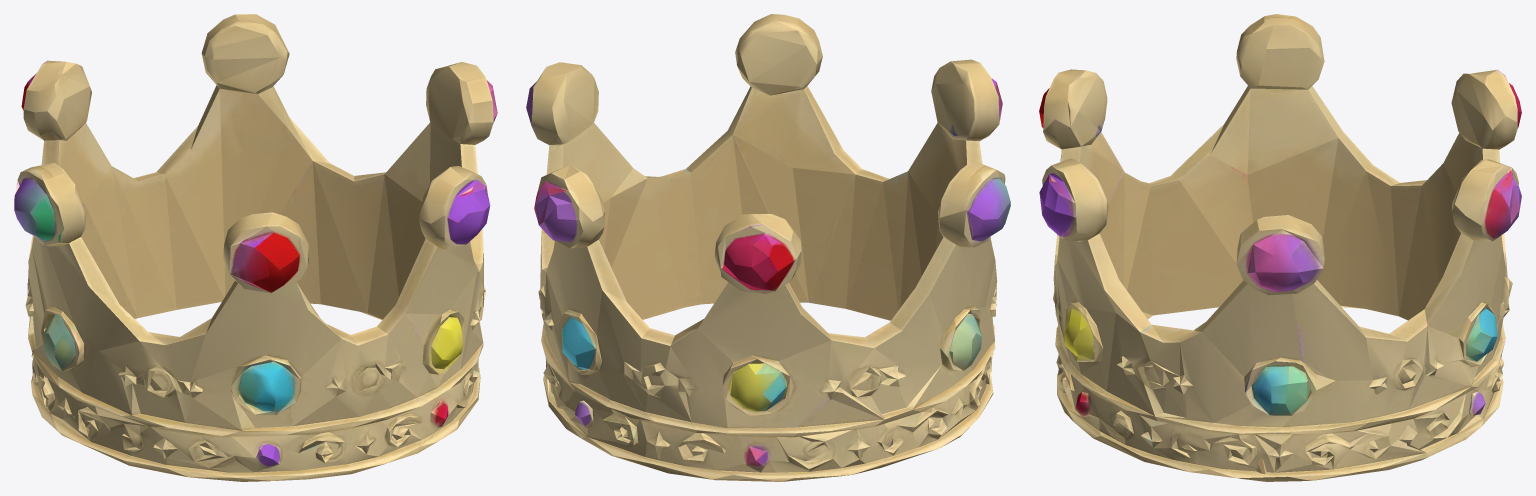
Rendered from crown_toy.glb.
The picture shows the model from 3 angles, left to right: view 1: azimuth 30°, elevation 25°; view 2: azimuth 150°, elevation 25°; view 3: azimuth 270°, elevation 25°; orthographic projection.
Visible parts, largest first — view 1: Mesh_0; view 2: Mesh_0; view 3: Mesh_0.
Part boxes in pixels (<box>): Mesh_0: <box>14,14,497,481</box>; Mesh_0: <box>526,14,1010,481</box>; Mesh_0: <box>1039,14,1521,481</box>.
Bounding box in the file's own units: 0.18 × 0.0993 × 0.1602.
1 material, 1 textured.
